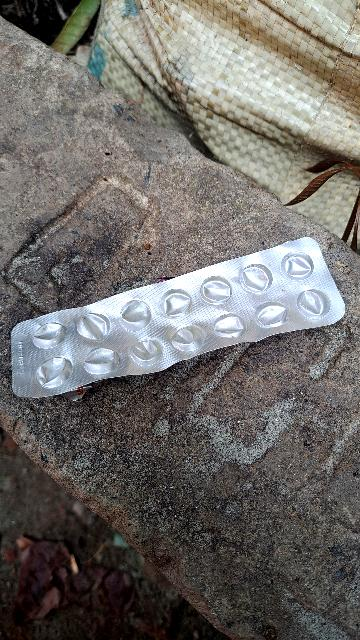medicine: (0, 216, 357, 415)
